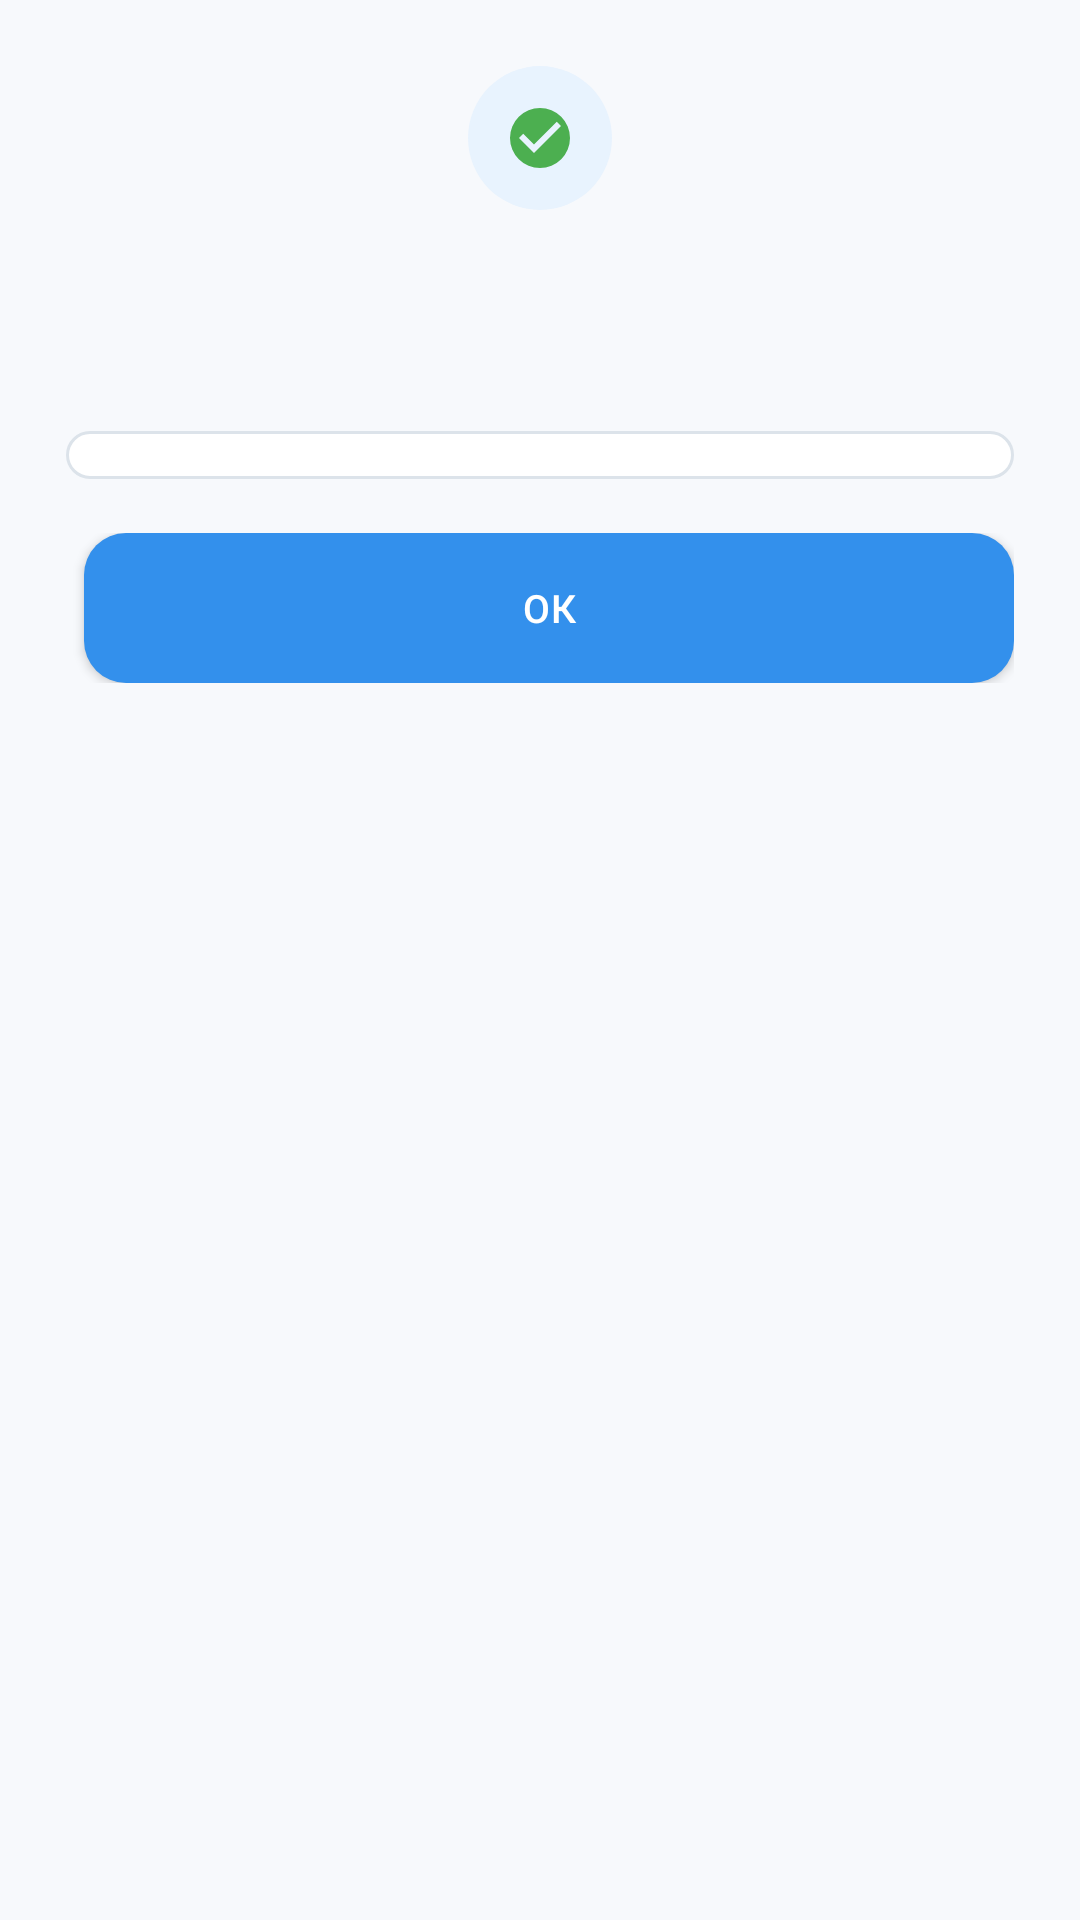

Icons on this 1080×1920 Android screen, each with its box as [x1,y1,x2,y2]:
status check: [510,108,570,168]
